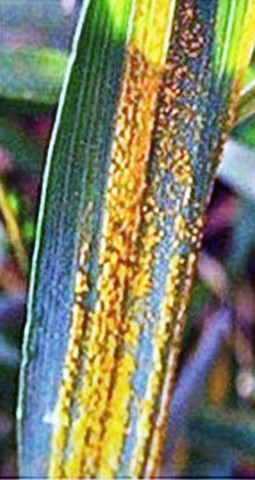Leaf Rust: (55, 47, 226, 466)
